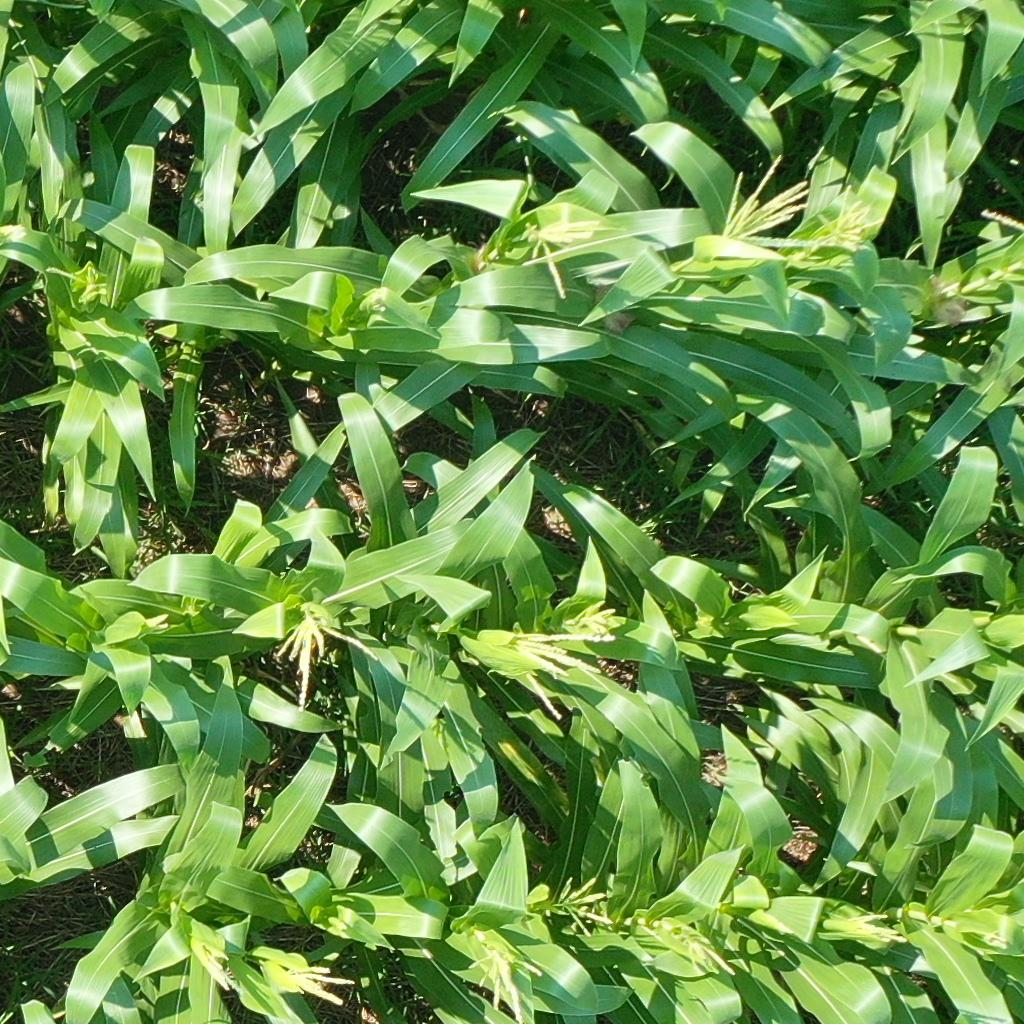Tassel: (717, 157, 818, 265), (277, 607, 381, 711), (502, 628, 613, 725), (510, 203, 599, 300), (463, 948, 544, 1022), (809, 182, 880, 253), (553, 877, 613, 939), (279, 963, 364, 1006), (565, 596, 630, 645), (43, 259, 107, 306), (198, 949, 253, 998), (846, 907, 908, 948), (683, 933, 734, 981), (357, 284, 396, 319)
